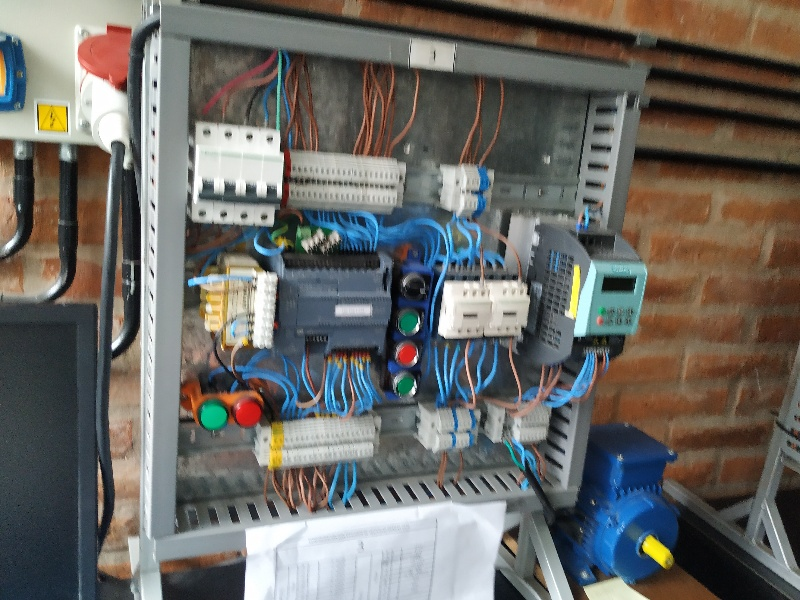Tablero 3: (182, 28, 648, 508)
